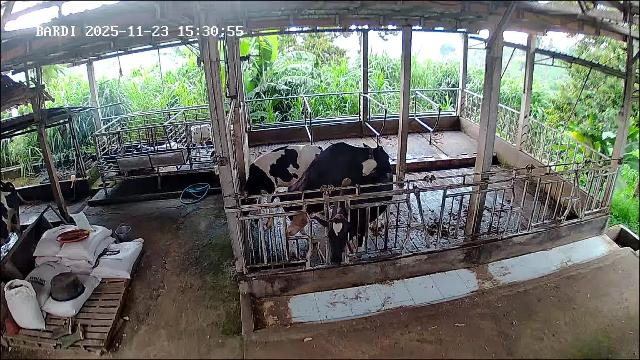mounting: (276, 141, 390, 259)
